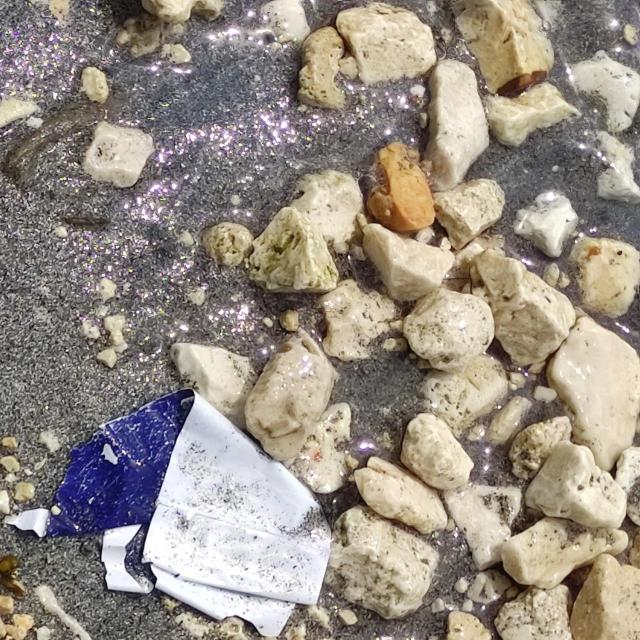plastic_waste: (4, 384, 333, 640)
